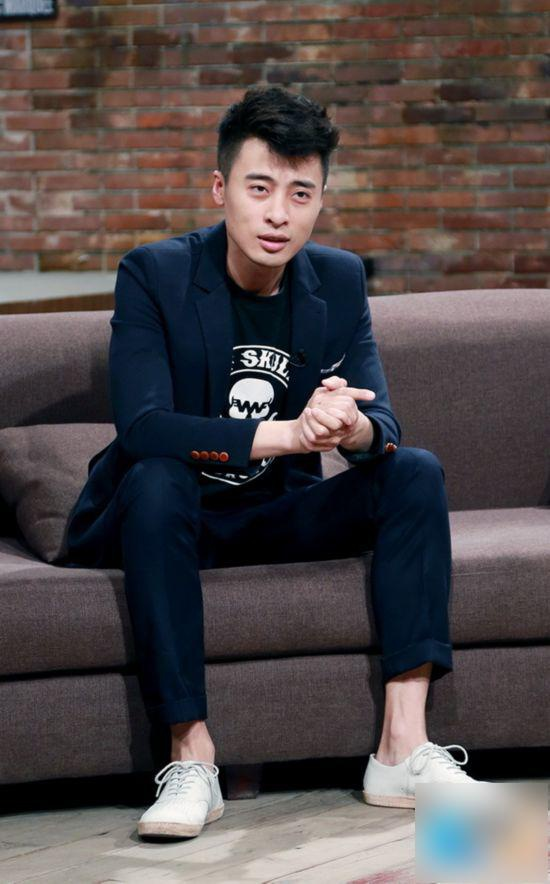bench: (0, 492, 538, 843)
sofa: (11, 174, 524, 801), (0, 492, 538, 843)
